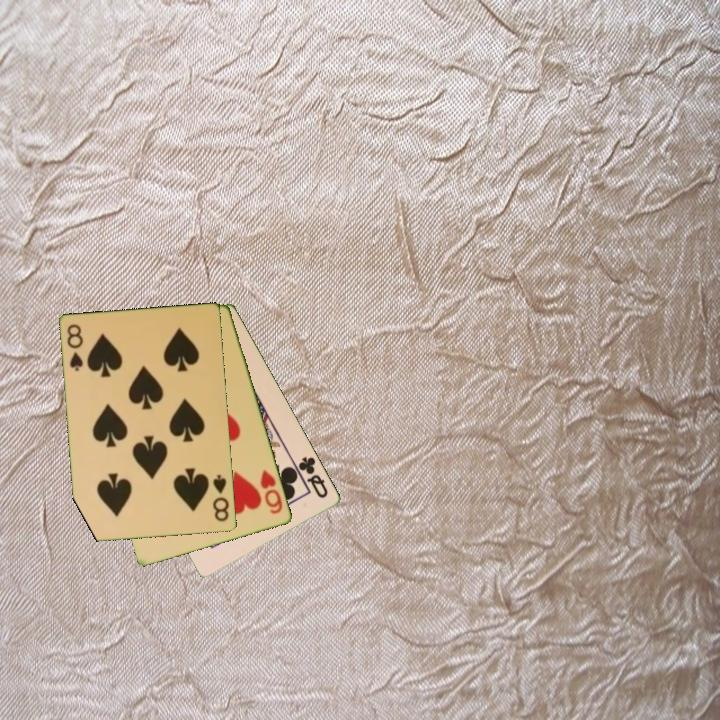6h: (257, 466, 286, 517)
8s: (209, 471, 232, 525), (64, 321, 86, 374)
Qc: (291, 453, 331, 501)
